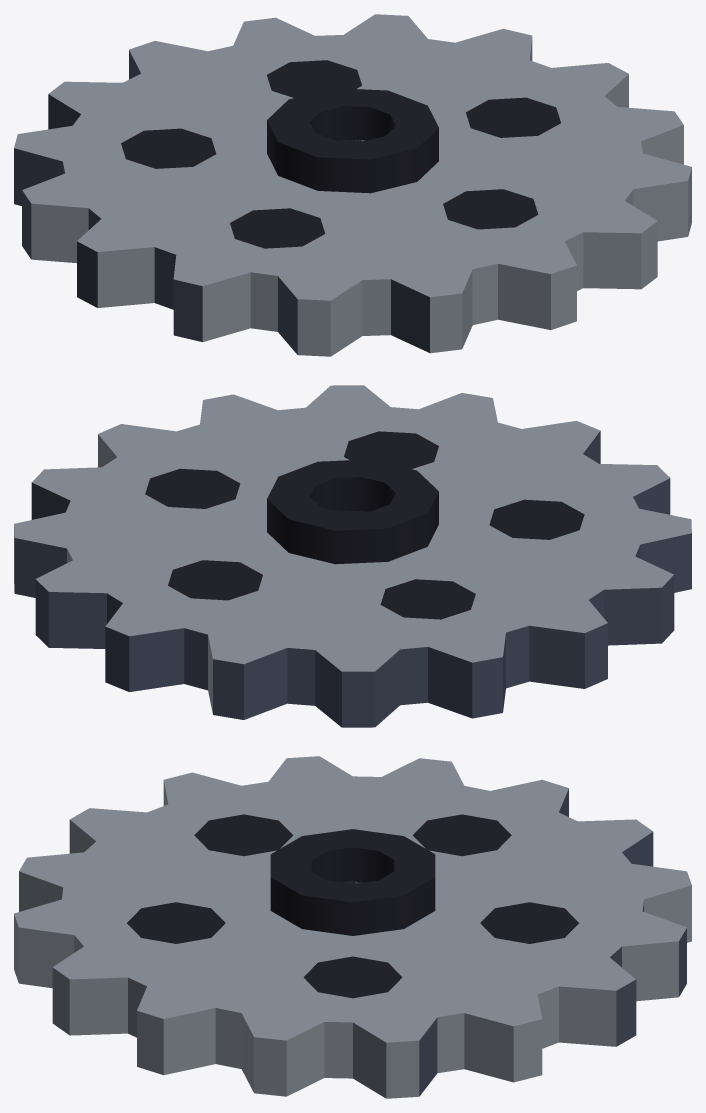
File: Cogwheel.fbx
3 renders of one model, top to bottom at view 1: azimuth 30°, elevation 25°; view 2: azimuth 150°, elevation 25°; view 3: azimuth 270°, elevation 25°, orthographic.
Visible parts, largest first — view 1: Cogwheel; view 2: Cogwheel; view 3: Cogwheel.
Boxes of the visible parts, x1,y1,x2,y2 form: Cogwheel: (14, 14, 691, 356); Cogwheel: (14, 385, 691, 727); Cogwheel: (14, 756, 691, 1098).
Bounding box in the file's own units: 1.09 × 0.16 × 1.09.
Materials: 1 (1 with a texture image).
